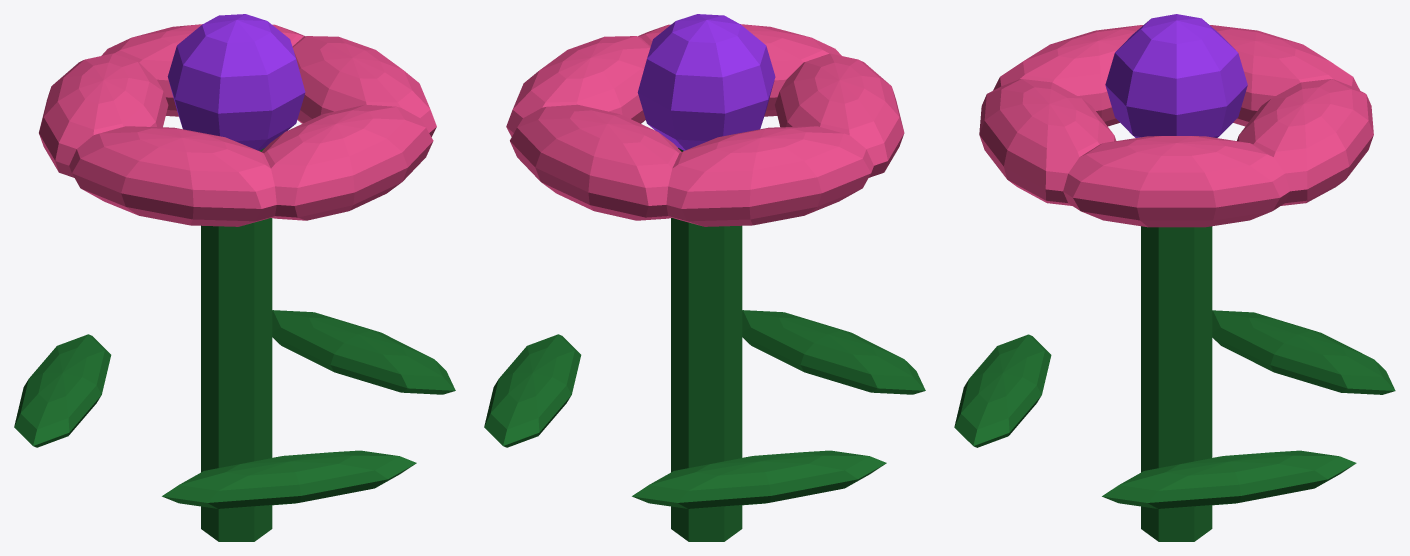
The model's file is prop_verdania_plant.fbx.
3 renders of one model, left to right at view 1: azimuth 30°, elevation 25°; view 2: azimuth 150°, elevation 25°; view 3: azimuth 270°, elevation 25°, orthographic.
Parts seen in each view (by area): view 1: V_Plant_Stem, V_Plant_Petal_3, V_Plant_Center, V_Plant_Petal_4, V_Plant_Leaf_2, V_Plant_Petal_2, V_Plant_Leaf_0, V_Plant_Petal_0, V_Plant_Leaf_1, V_Plant_Petal_1; view 2: V_Plant_Stem, V_Plant_Petal_2, V_Plant_Center, V_Plant_Petal_1, V_Plant_Leaf_1, V_Plant_Petal_3, V_Plant_Leaf_2, V_Plant_Petal_0, V_Plant_Leaf_0, V_Plant_Petal_4; view 3: V_Plant_Stem, V_Plant_Petal_0, V_Plant_Center, V_Plant_Petal_4, V_Plant_Petal_1, V_Plant_Leaf_0, V_Plant_Leaf_1, V_Plant_Leaf_2, V_Plant_Petal_2, V_Plant_Petal_3.
Part boxes in pixels (bbox=[...]): V_Plant_Stem: bbox=[201, 147, 272, 541]; V_Plant_Petal_3: bbox=[69, 126, 276, 226]; V_Plant_Center: bbox=[167, 14, 305, 150]; V_Plant_Petal_4: bbox=[261, 104, 433, 220]; V_Plant_Leaf_2: bbox=[162, 450, 416, 508]; V_Plant_Petal_2: bbox=[39, 53, 168, 177]; V_Plant_Leaf_0: bbox=[272, 310, 455, 394]; V_Plant_Petal_0: bbox=[292, 36, 436, 136]; V_Plant_Leaf_1: bbox=[14, 334, 111, 447]; V_Plant_Petal_1: bbox=[101, 24, 304, 116]; V_Plant_Stem: bbox=[671, 148, 742, 541]; V_Plant_Petal_2: bbox=[666, 126, 873, 226]; V_Plant_Center: bbox=[637, 14, 775, 150]; V_Plant_Petal_1: bbox=[510, 104, 681, 220]; V_Plant_Leaf_1: bbox=[632, 450, 886, 508]; V_Plant_Petal_3: bbox=[775, 53, 904, 177]; V_Plant_Leaf_2: bbox=[742, 310, 925, 394]; V_Plant_Petal_0: bbox=[506, 36, 650, 136]; V_Plant_Leaf_0: bbox=[484, 334, 581, 447]; V_Plant_Petal_4: bbox=[638, 24, 841, 116]; V_Plant_Stem: bbox=[1141, 226, 1212, 541]; V_Plant_Petal_0: bbox=[1063, 136, 1289, 227]; V_Plant_Center: bbox=[1105, 14, 1247, 137]; V_Plant_Petal_4: bbox=[979, 79, 1116, 205]; V_Plant_Petal_1: bbox=[1237, 79, 1373, 205]; V_Plant_Leaf_0: bbox=[1102, 450, 1356, 508]; V_Plant_Leaf_1: bbox=[1212, 310, 1395, 394]; V_Plant_Leaf_2: bbox=[954, 334, 1051, 447]; V_Plant_Petal_2: bbox=[1210, 25, 1359, 126]; V_Plant_Petal_3: bbox=[993, 25, 1142, 126].
Bounding box in the file's own units: 0.5015 × 0.63 × 0.4955.
